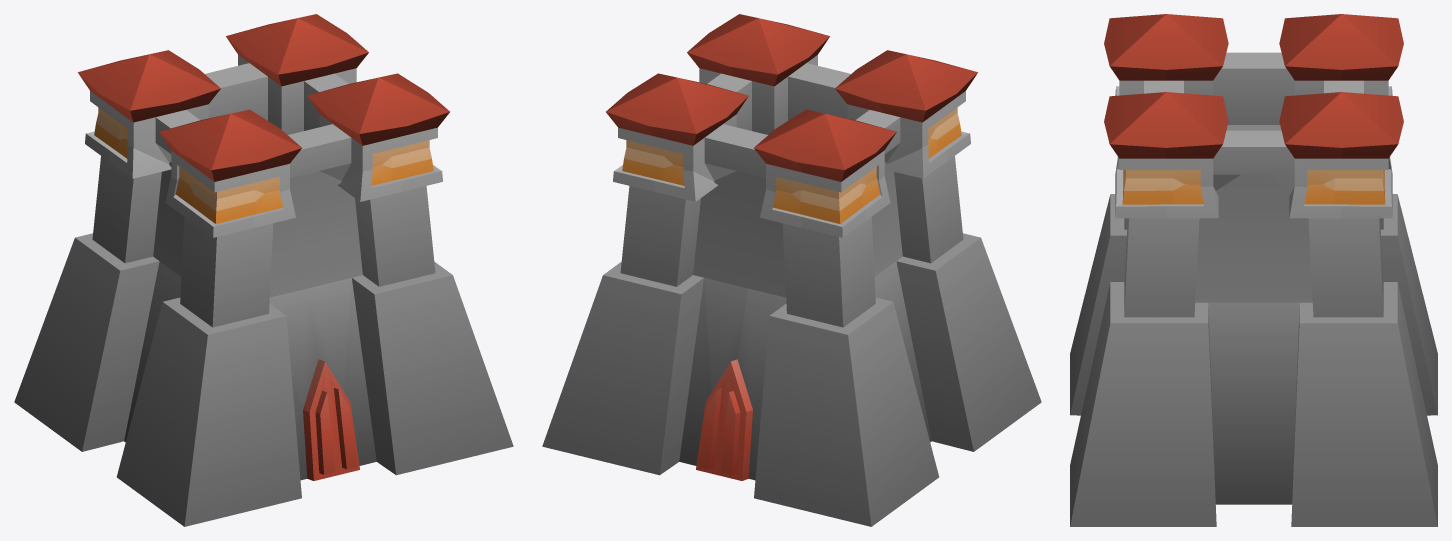
The model's file is Torreta2.fbx.
3 views of the same model, side by side, from view 1: azimuth 30°, elevation 25°; view 2: azimuth 150°, elevation 25°; view 3: azimuth 270°, elevation 25° (orthographic). The views are drawn at different scales.
Parts seen in each view (by area): view 1: Torreta; view 2: Torreta; view 3: Torreta.
Part boxes in pixels (<box>): Torreta: <box>14,14,513,526</box>; Torreta: <box>542,14,1041,526</box>; Torreta: <box>1070,14,1437,526</box>.
Bounding box in the file's own units: 86.45 × 89.96 × 77.44.
